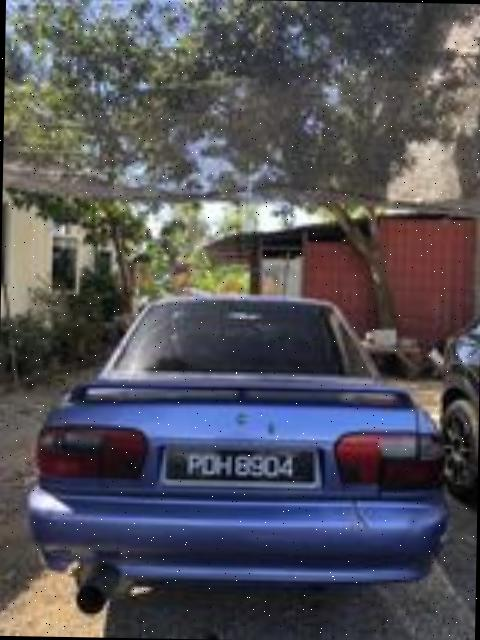License_Plate: (172, 445, 309, 487)
car: (32, 297, 450, 607)
